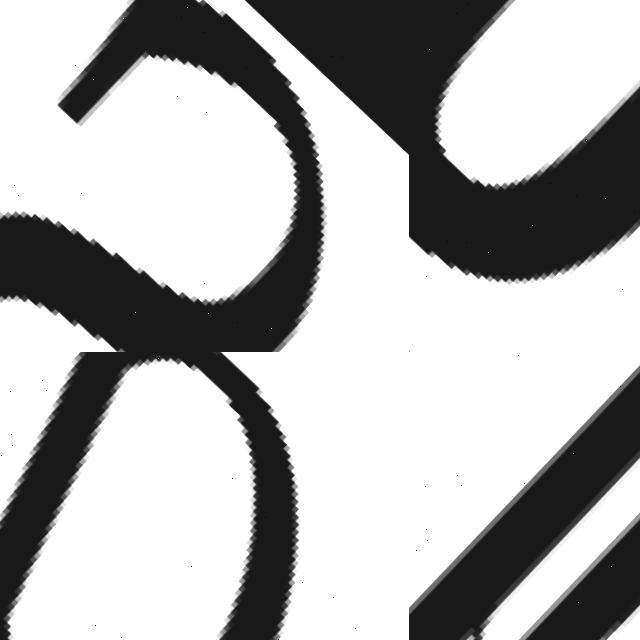0: (409, 0, 640, 352)
B: (409, 361, 640, 640)
P: (0, 352, 308, 640)
S: (0, 0, 409, 352)
